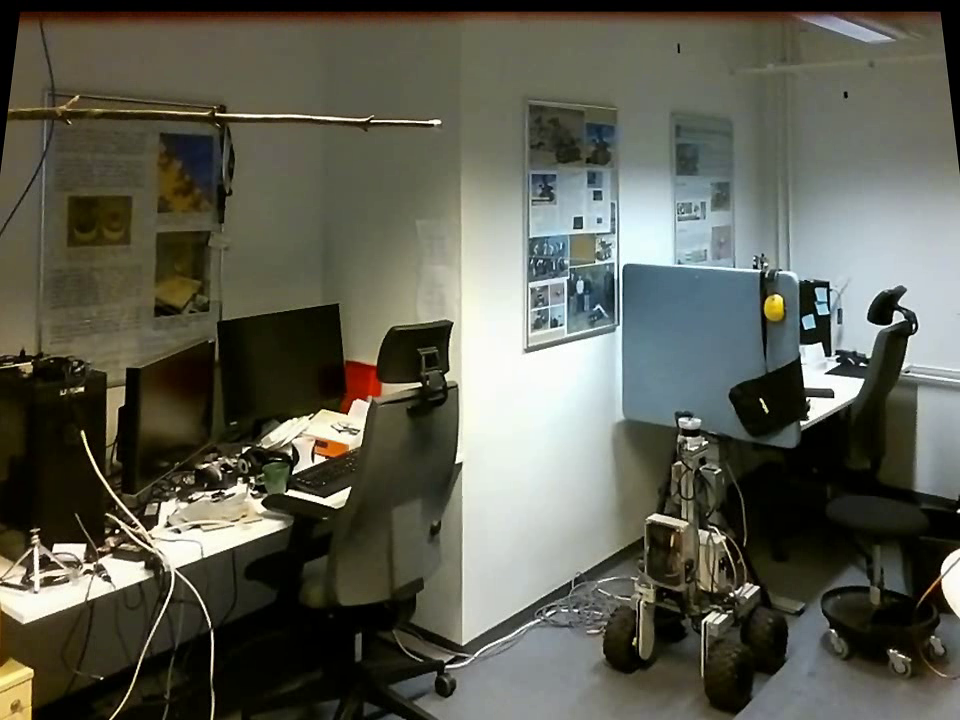branch: (8, 87, 427, 135)
